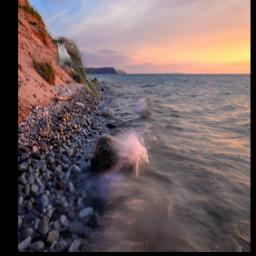Cuckoo: (54, 37, 100, 99)
